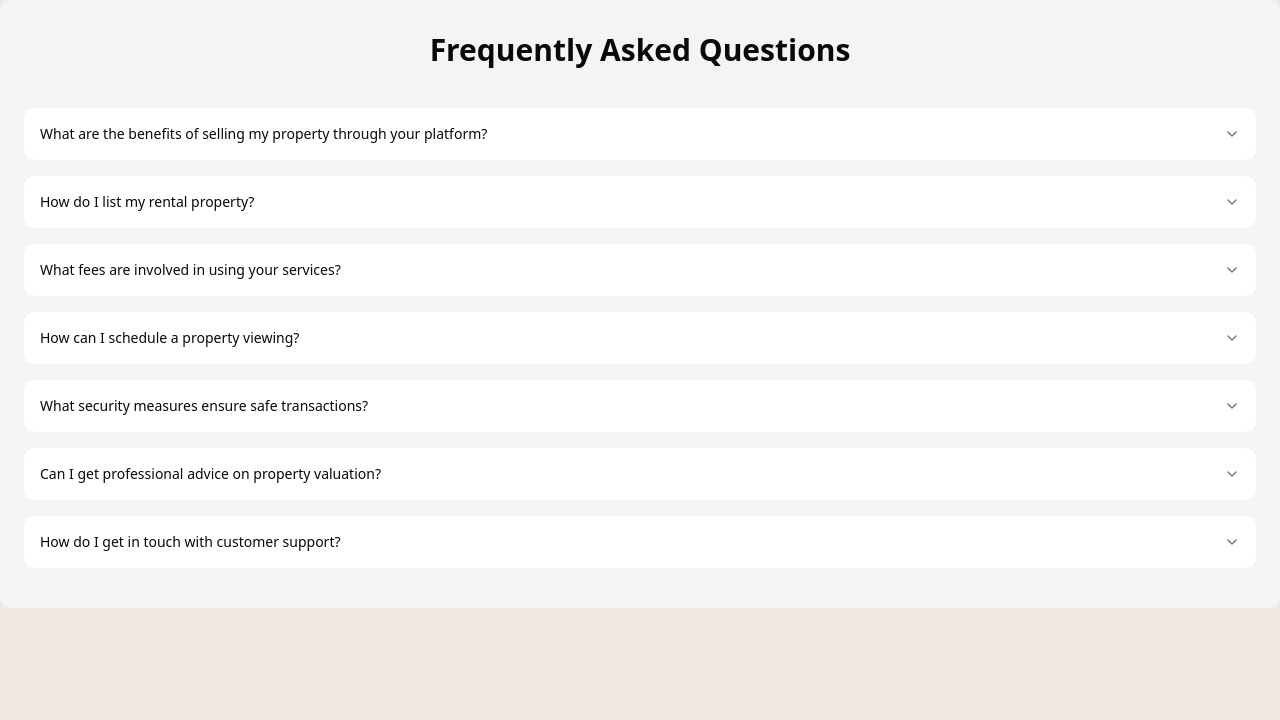
FAQPage › expands an accordion item when clicked
# Find and click the first accordion trigger
Click the button "What are the benefits of selling my property through your platform?". click: (264, 134)
box: [24,108,1256,160]
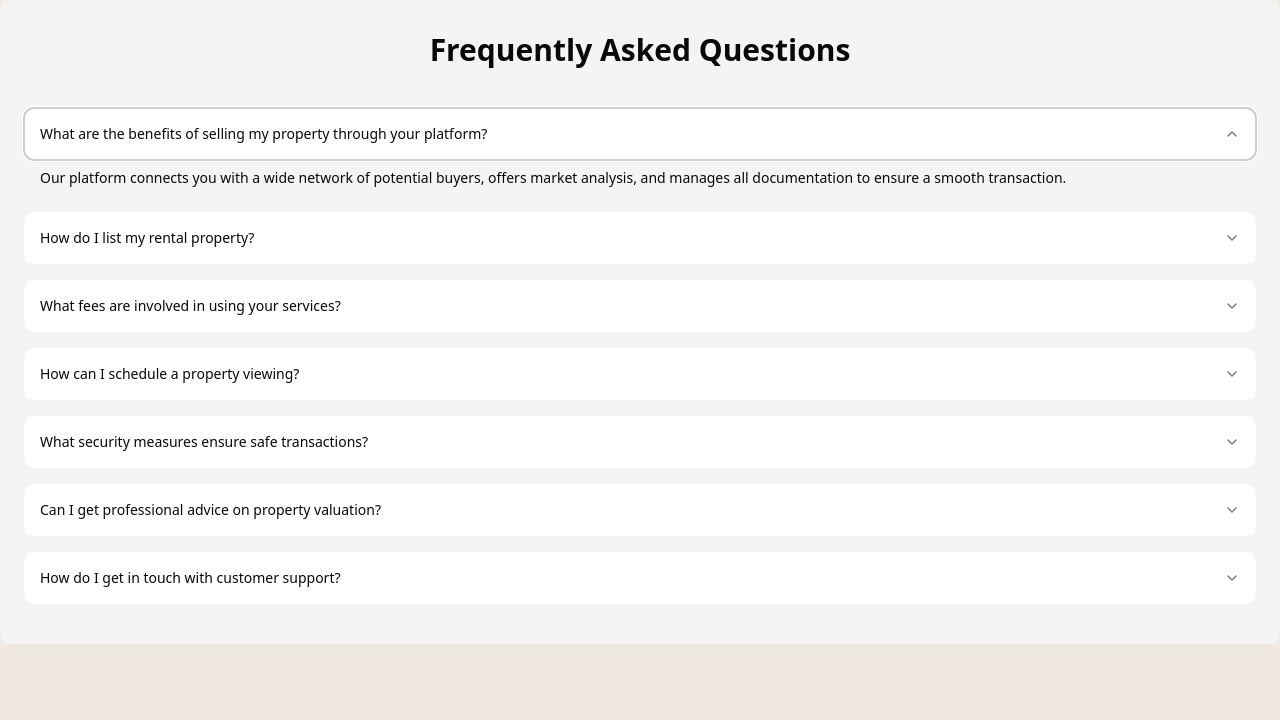
expect the text "Our platform connects you with a wide network of potential buyers" is shown: met, box [40,168,1066,187]
